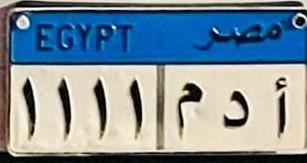1: (120, 76, 149, 142), (87, 75, 114, 141), (53, 72, 77, 139), (17, 75, 42, 138)
alif: (266, 73, 290, 137)
daal: (217, 87, 250, 134)
meem: (169, 80, 206, 139)
